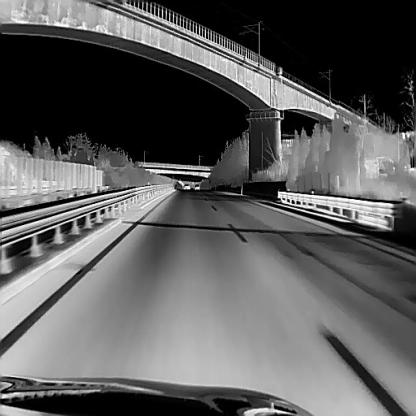car: (182, 182, 190, 189), (194, 182, 199, 188)
